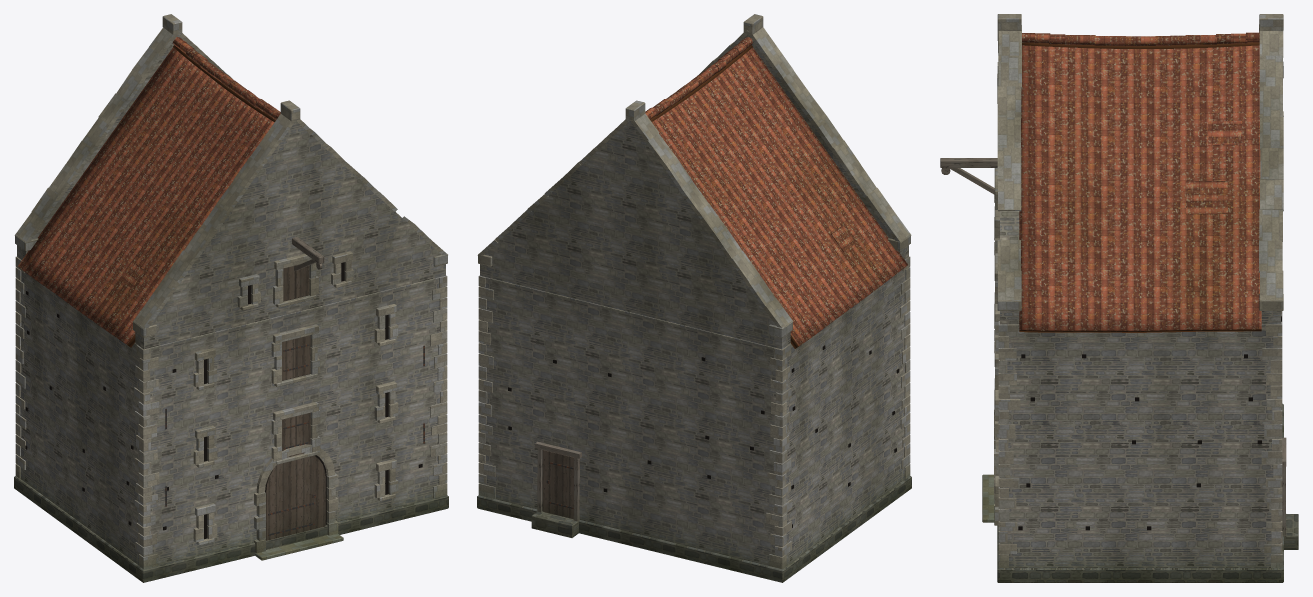
Rendered from stone_storehouse.glb.
3 views of the same model, side by side, from view 1: azimuth 30°, elevation 25°; view 2: azimuth 150°, elevation 25°; view 3: azimuth 270°, elevation 25° (orthographic). The views are drawn at different scales.
Parts seen in each view (by area): view 1: StoneStorehouseLimestoneRubble, StoneStorehouseClayTile, StoneStorehouseLimestoneDressed, StoneStorehouseOakPlank, StoneStorehouseLimestonePlinth, StoneStorehouseRecess, StoneStorehouseWroughtIron; view 2: StoneStorehouseLimestoneRubble, StoneStorehouseClayTile, StoneStorehouseLimestoneDressed, StoneStorehouseLimestonePlinth, StoneStorehouseOakPlank, StoneStorehouseOakWeathered; view 3: StoneStorehouseClayTile, StoneStorehouseLimestoneRubble, StoneStorehouseLimestoneDressed, StoneStorehouseLimestonePlinth, StoneStorehouseOakWeathered.
Boxes of the visible parts, left/top/right/bottom form: StoneStorehouseLimestoneRubble: left=17, top=35, right=445, bottom=565; StoneStorehouseClayTile: left=17, top=37, right=280, bottom=347; StoneStorehouseLimestoneDressed: left=14, top=14, right=447, bottom=569; StoneStorehouseOakPlank: left=265, top=265, right=325, bottom=540; StoneStorehouseLimestonePlinth: left=14, top=476, right=448, bottom=582; StoneStorehouseRecess: left=25, top=262, right=422, bottom=539; StoneStorehouseWroughtIron: left=165, top=344, right=424, bottom=535; StoneStorehouseLimestoneRubble: left=480, top=34, right=908, bottom=565; StoneStorehouseClayTile: left=645, top=37, right=907, bottom=348; StoneStorehouseLimestoneDressed: left=477, top=14, right=911, bottom=569; StoneStorehouseLimestonePlinth: left=477, top=476, right=911, bottom=582; StoneStorehouseOakPlank: left=543, top=450, right=573, bottom=519; StoneStorehouseOakWeathered: left=535, top=441, right=581, bottom=523; StoneStorehouseClayTile: left=1019, top=32, right=1261, bottom=332; StoneStorehouseLimestoneRubble: left=1000, top=211, right=1280, bottom=567; StoneStorehouseLimestoneDressed: left=982, top=14, right=1283, bottom=567; StoneStorehouseLimestonePlinth: left=997, top=403, right=1298, bottom=582; StoneStorehouseOakWeathered: left=940, top=158, right=1286, bottom=536.
Size of the model in its own units: 11.6 by 15.21 by 10.2.
8 materials, 8 textured.
